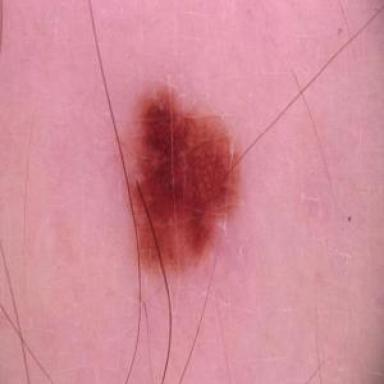Melanoma: (128, 85, 239, 270)
